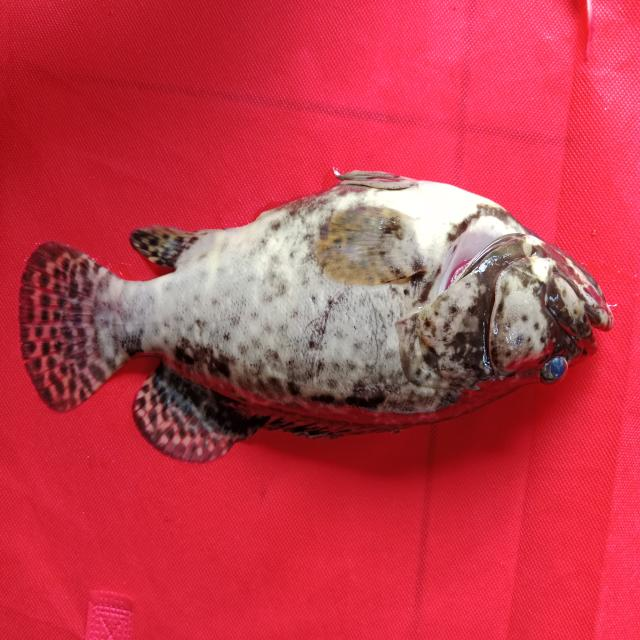ikan: (3, 150, 600, 466)
